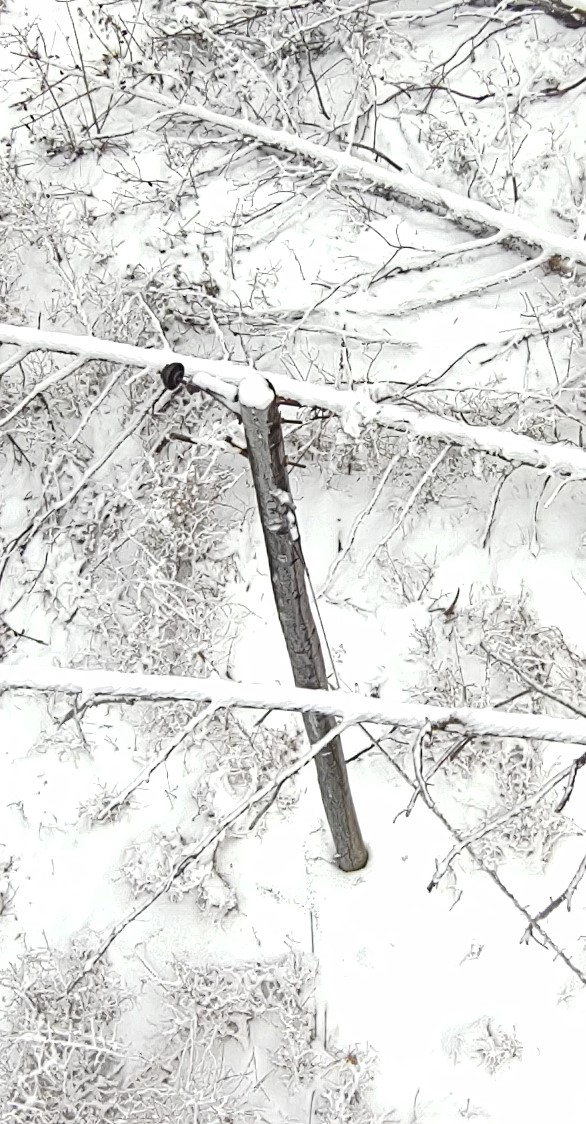pole: (95, 339, 504, 907)
